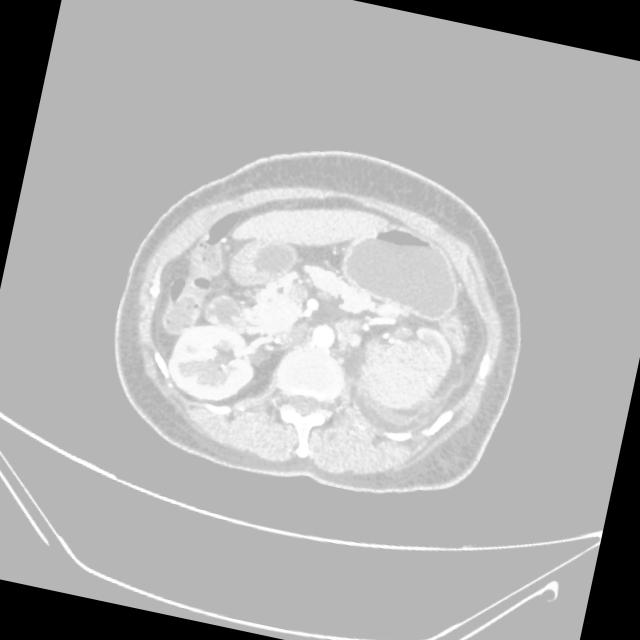TUMOR: (106, 127, 482, 425)
